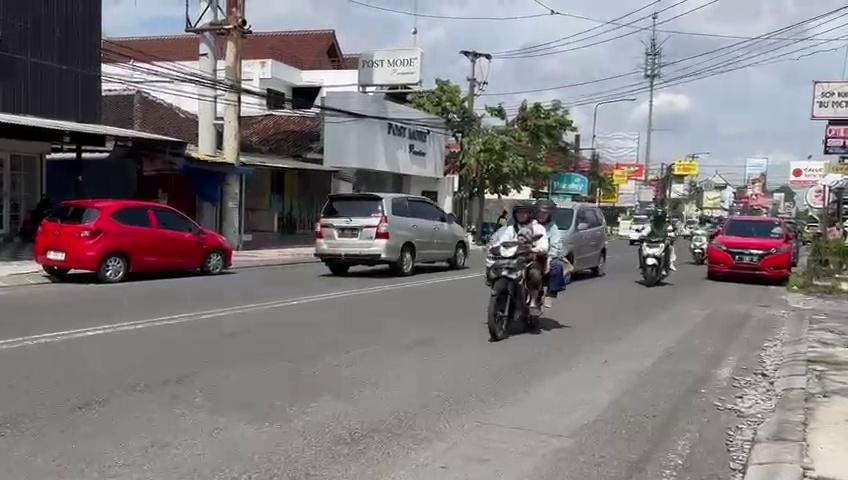helm: (534, 199, 557, 224), (513, 200, 534, 224)
riding: (485, 196, 575, 342)
